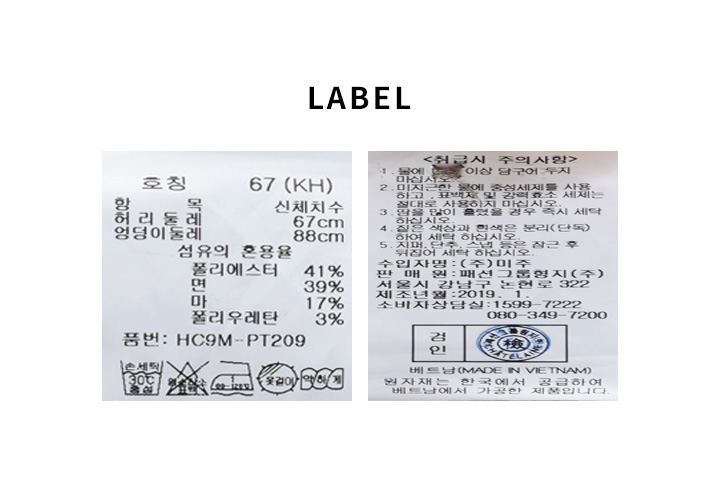KR_gentle_wring: (300, 364, 345, 394)
KR_hand_wash_30_neutral: (119, 358, 164, 398)
KR_hang_dry_in_shade: (256, 359, 299, 395)
KR_iron_low_temp_with_cloth: (212, 359, 254, 397)
KR_no_bleach: (165, 359, 210, 399)
